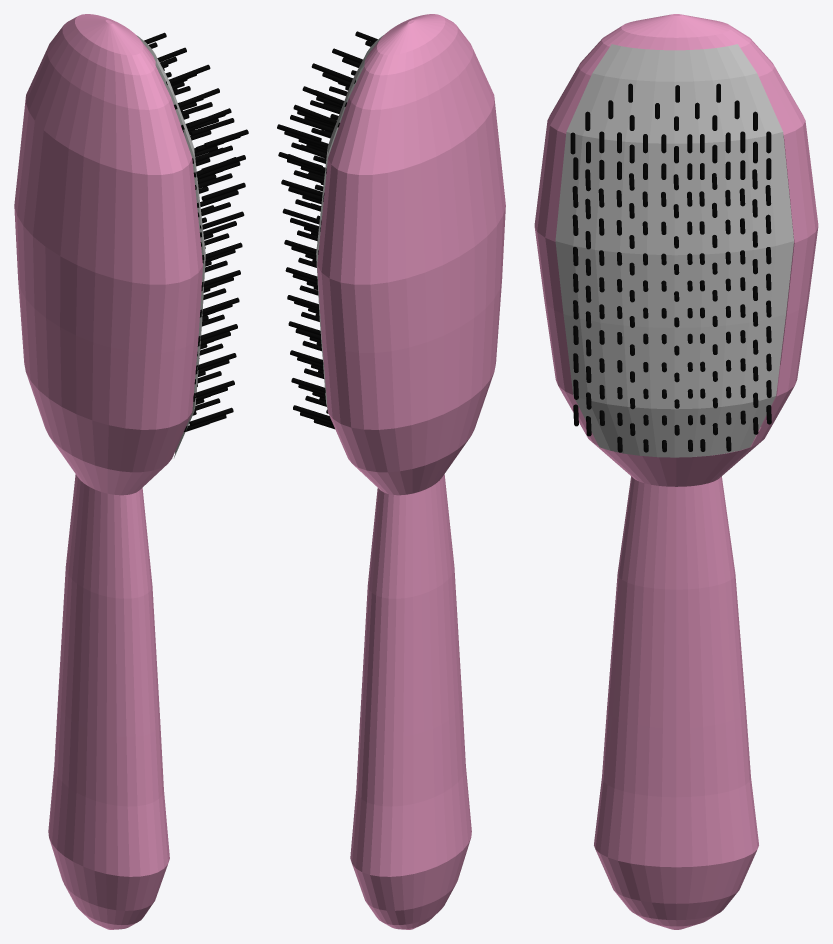
Rendered from hairbrush.fbx.
3 views of the same model, side by side, from view 1: azimuth 30°, elevation 25°; view 2: azimuth 150°, elevation 25°; view 3: azimuth 270°, elevation 25° (orthographic).
Visible parts, largest first — view 1: Cylinder, Cylinder.274, Cylinder.117, Cylinder.119, Cylinder.107; view 2: Cylinder, Cylinder.274, Cylinder.126, Cylinder.128; view 3: Cylinder, Cylinder.274.
Boxes of the visible parts, x1=… form: Cylinder: x1=14, y1=14, x2=202, y2=929; Cylinder.274: x1=136, y1=35, x2=205, y2=457; Cylinder.117: x1=195, y1=161, x2=245, y2=200; Cylinder.119: x1=197, y1=190, x2=244, y2=229; Cylinder.107: x1=195, y1=331, x2=236, y2=370; Cylinder: x1=317, y1=14, x2=505, y2=929; Cylinder.274: x1=316, y1=35, x2=383, y2=409; Cylinder.126: x1=282, y1=187, x2=323, y2=224; Cylinder.128: x1=281, y1=159, x2=326, y2=196; Cylinder: x1=534, y1=14, x2=818, y2=929; Cylinder.274: x1=555, y1=44, x2=793, y2=457.
Bounding box in the file's own units: 71.53 × 410 × 116.
